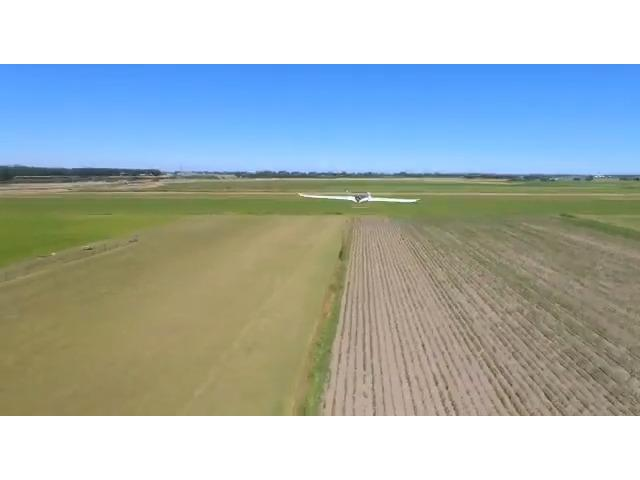Anti-Drone: (290, 166, 426, 218)
